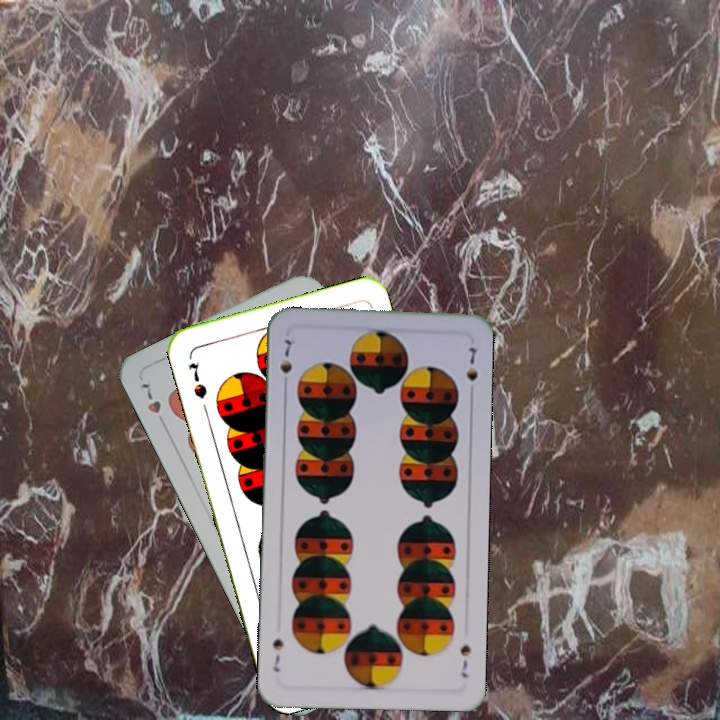H7: (135, 377, 170, 432)
S7: (276, 333, 295, 391), (185, 357, 210, 401), (456, 641, 473, 680)
